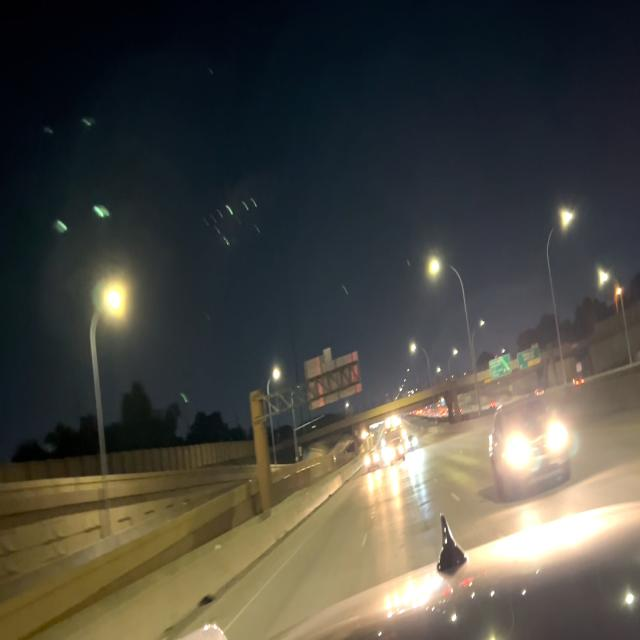back-of-sign: (304, 345, 362, 414)
